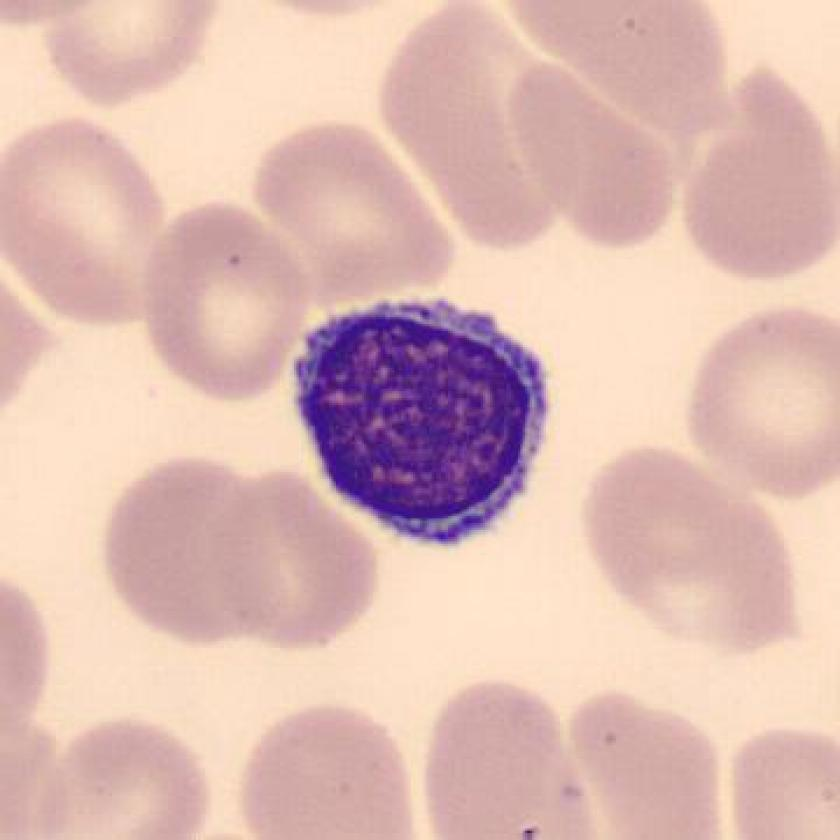lymphocyte: (277, 281, 571, 556)
